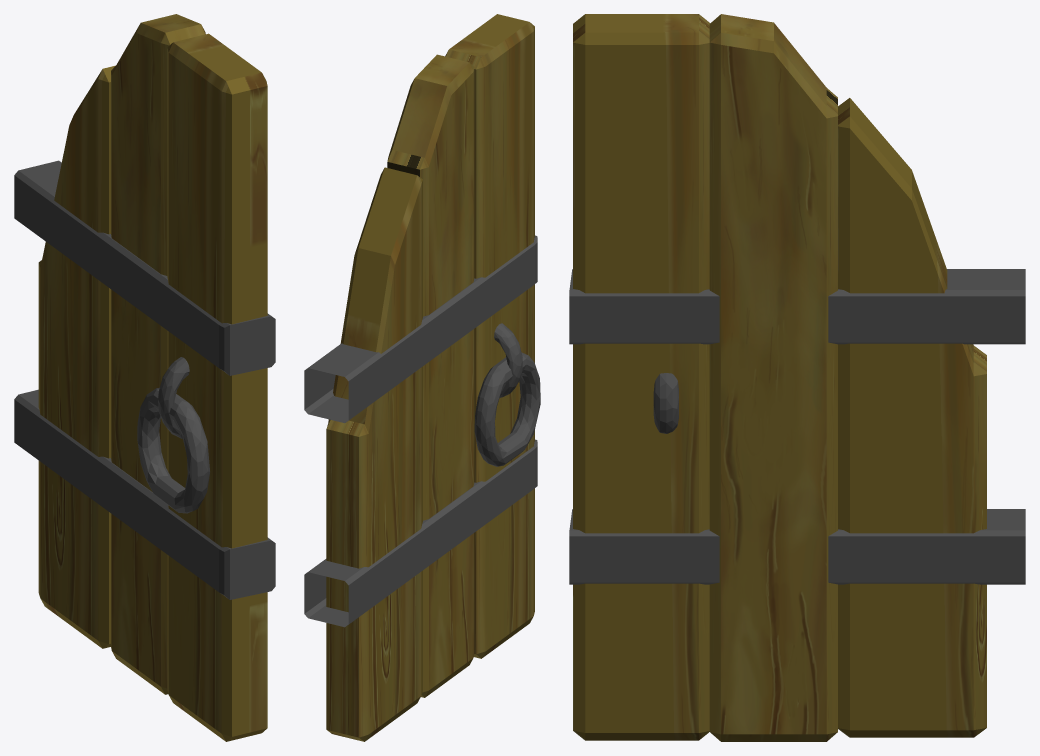
File: DoorRight.fbx
3 renders of one model, left to right at view 1: azimuth 30°, elevation 25°; view 2: azimuth 150°, elevation 25°; view 3: azimuth 270°, elevation 25°, orthographic. The views are drawn at different scales.
Visible parts, largest first — view 1: WallWoodV.329; view 2: WallWoodV.329; view 3: WallWoodV.329.
Boxes of the visible parts, x1,y1,x2,y2 form: WallWoodV.329: (14,14,275,741); WallWoodV.329: (304,14,540,741); WallWoodV.329: (569,14,1025,741).
Bounding box in the file's own units: 16.46 × 135 × 78.67.
